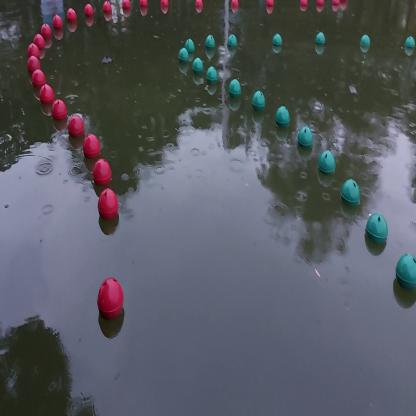green_buoy: (364, 210, 388, 256), (395, 251, 416, 301), (338, 177, 362, 218), (296, 127, 314, 160), (319, 149, 336, 181), (274, 101, 290, 134), (206, 61, 219, 96), (228, 77, 243, 104), (253, 90, 265, 118), (359, 33, 372, 57), (270, 32, 284, 54), (404, 37, 415, 60), (314, 33, 326, 54), (205, 33, 216, 54), (184, 36, 195, 55), (180, 49, 190, 68), (193, 56, 203, 75), (227, 36, 238, 53)
red_buoy: (96, 274, 124, 330), (99, 187, 119, 227), (93, 159, 113, 197), (85, 133, 102, 166), (69, 115, 86, 145), (39, 79, 53, 112), (51, 100, 67, 124), (50, 12, 64, 38), (38, 23, 52, 49), (26, 42, 41, 66), (28, 53, 40, 78), (64, 6, 76, 30), (33, 33, 45, 56), (32, 69, 44, 90), (102, 2, 112, 22), (83, 5, 94, 23), (314, 0, 326, 16), (160, 0, 170, 16), (228, 0, 240, 13), (139, 0, 147, 17), (121, 0, 130, 14), (194, 0, 203, 14), (300, 0, 309, 14), (265, 0, 274, 13), (333, 0, 339, 15)
